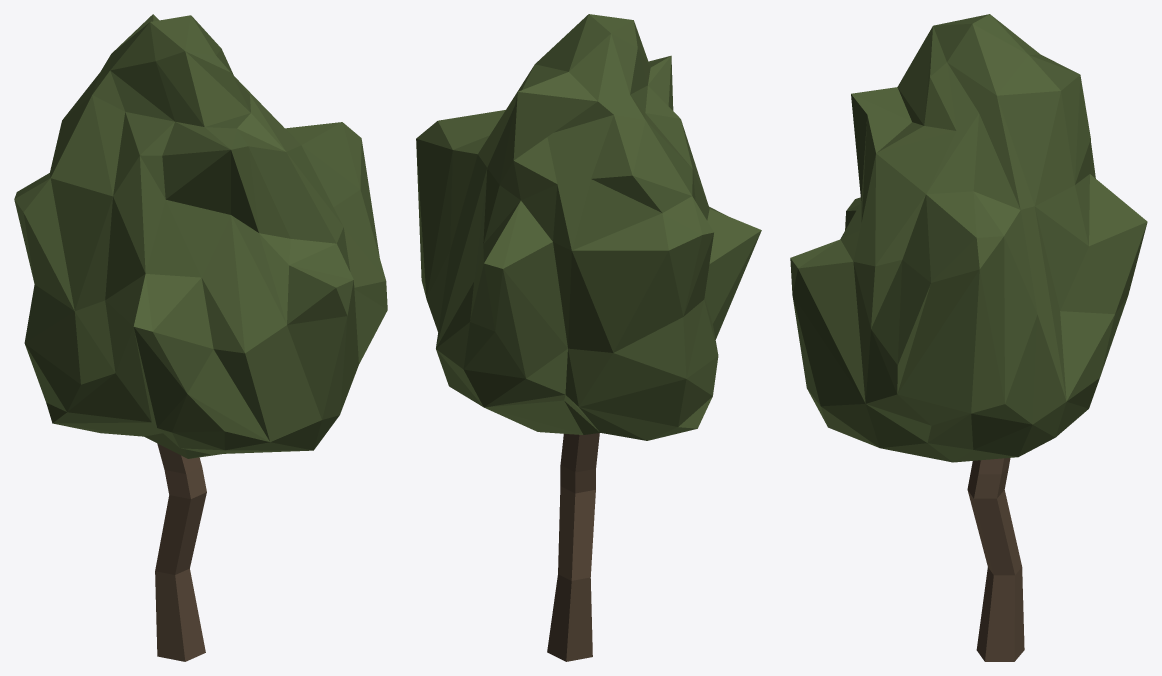
File: Tree_063.fbx
3 renders of one model, left to right at view 1: azimuth 30°, elevation 25°; view 2: azimuth 150°, elevation 25°; view 3: azimuth 270°, elevation 25°, orthographic. The views are drawn at different scales.
Parts seen in each view (by area): view 1: Tree_063; view 2: Tree_063; view 3: Tree_063.
Boxes of the visible parts, x1=… form: Tree_063: x1=14, y1=14, x2=387, y2=661; Tree_063: x1=416, y1=14, x2=761, y2=661; Tree_063: x1=790, y1=14, x2=1147, y2=661.
Size of the model in its own units: 0.5807 by 1.11 by 0.574.
Materials: 1 (1 with a texture image).
